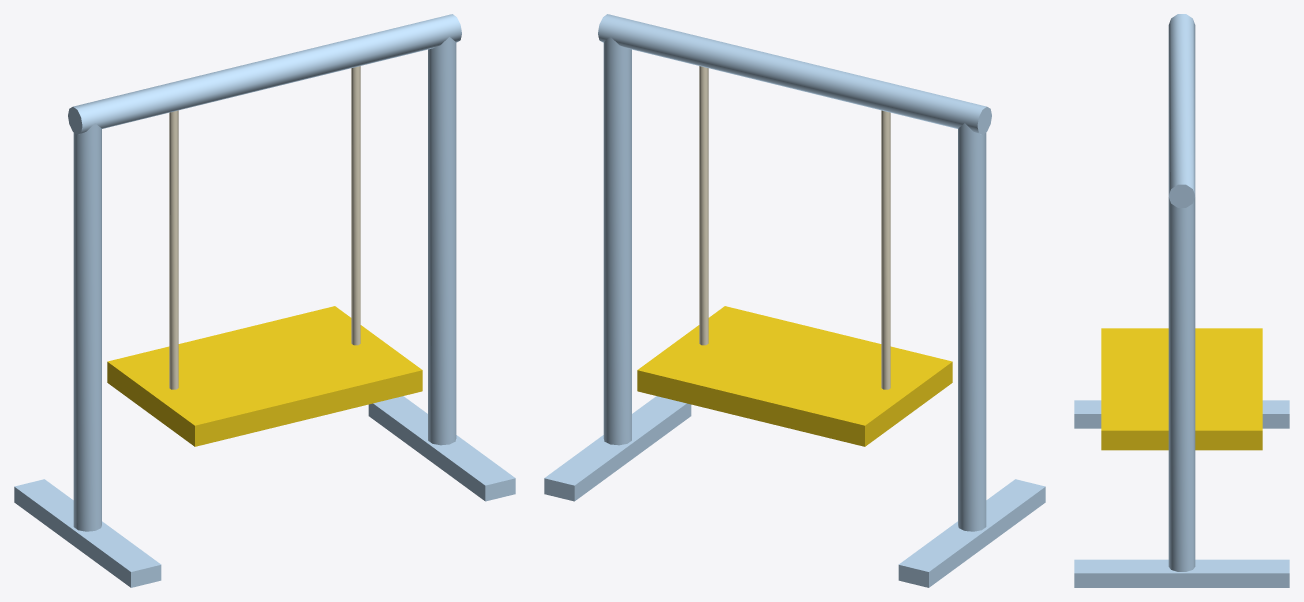
File: swing.glb
3 renders of one model, left to right at view 1: azimuth 30°, elevation 25°; view 2: azimuth 150°, elevation 25°; view 3: azimuth 270°, elevation 25°, orthographic. The views are drawn at different scales.
Visible parts, largest first — view 1: swing_frame, swing_board, swing_ropes; view 2: swing_frame, swing_board, swing_ropes; view 3: swing_frame, swing_board.
Part boxes in pixels (x1,y1,x2,y2): swing_frame: (14,14,515,587); swing_board: (107,306,422,446); swing_ropes: (169,66,360,389); swing_frame: (544,14,1045,587); swing_board: (637,306,952,446); swing_ropes: (699,66,890,389); swing_frame: (1074,14,1289,587); swing_board: (1101,328,1262,450).
Bounding box in the file's own units: 0.76 × 0.8238 × 0.4.
